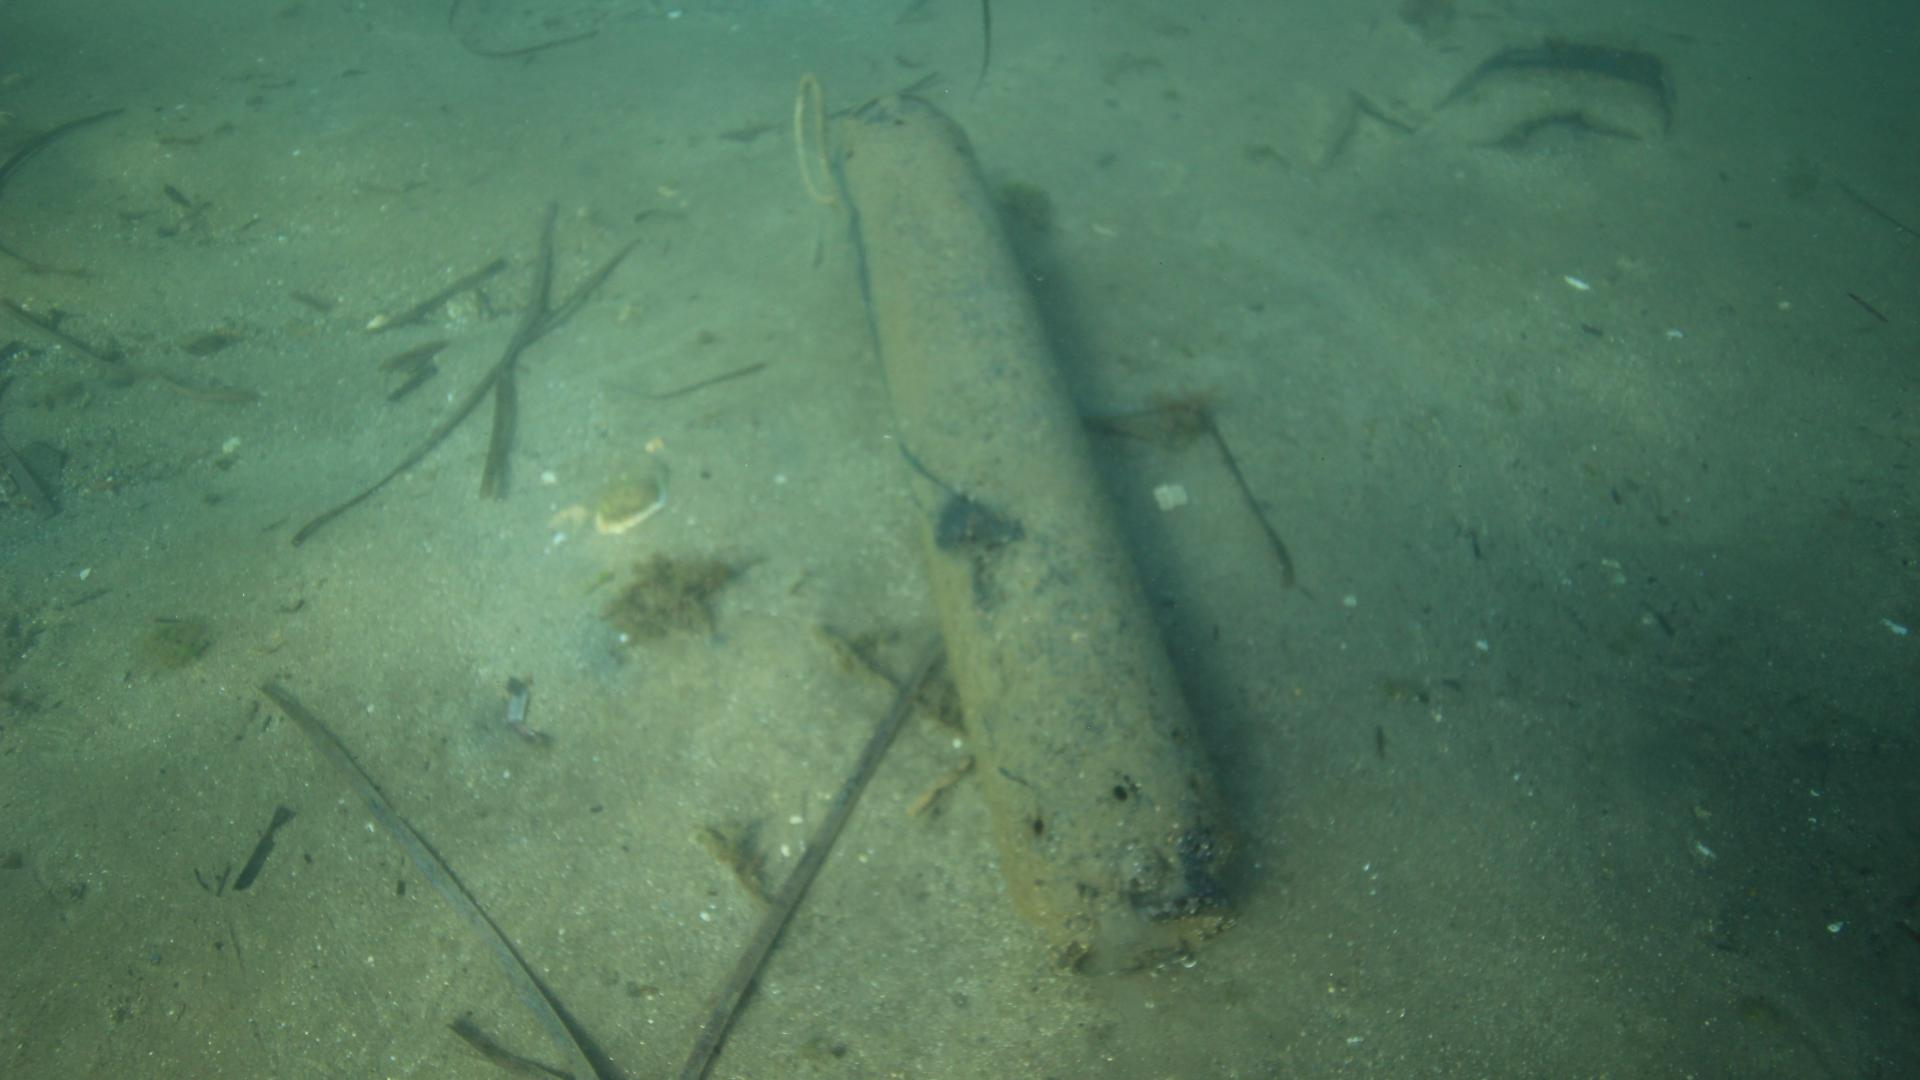bundle of ropes: (790, 70, 839, 214)
eel fish trap: (829, 91, 1241, 977)
